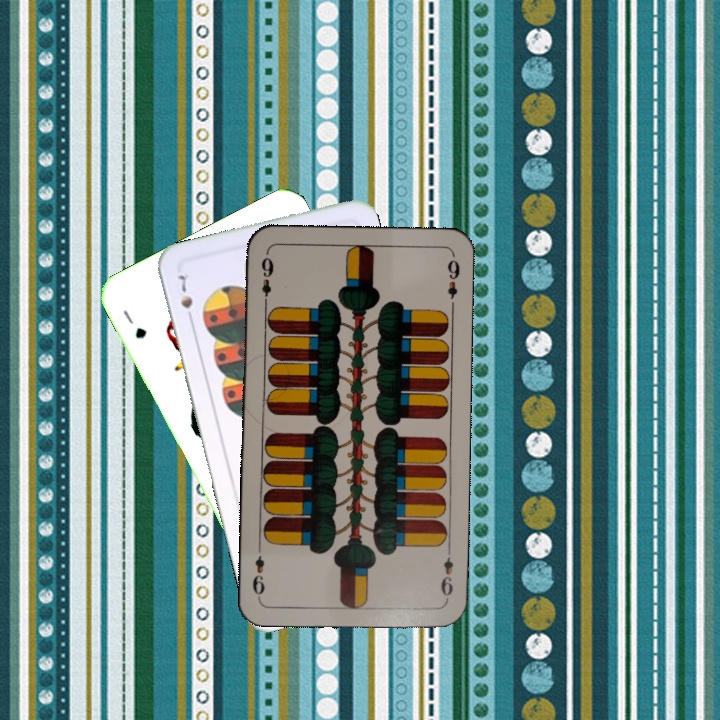E9: (437, 544, 456, 603), (257, 253, 277, 309)
GU: (118, 306, 149, 342)
S7: (174, 270, 196, 326)
